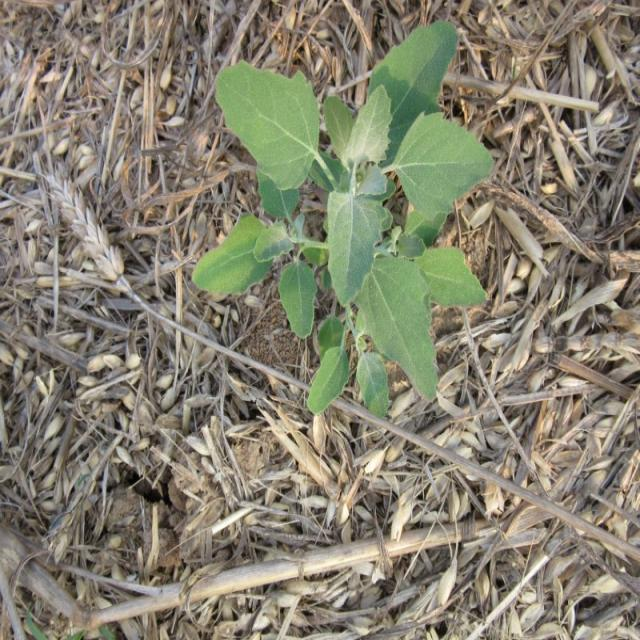ca: (196, 31, 488, 423)
